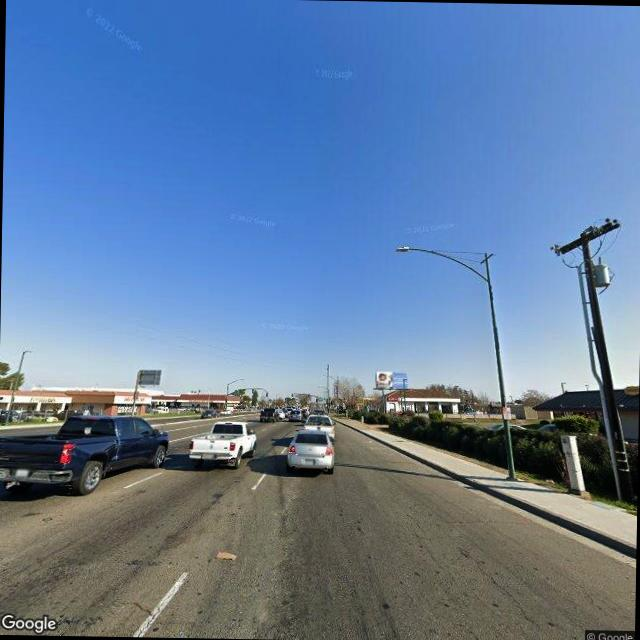pothole: (456, 546, 536, 622)
